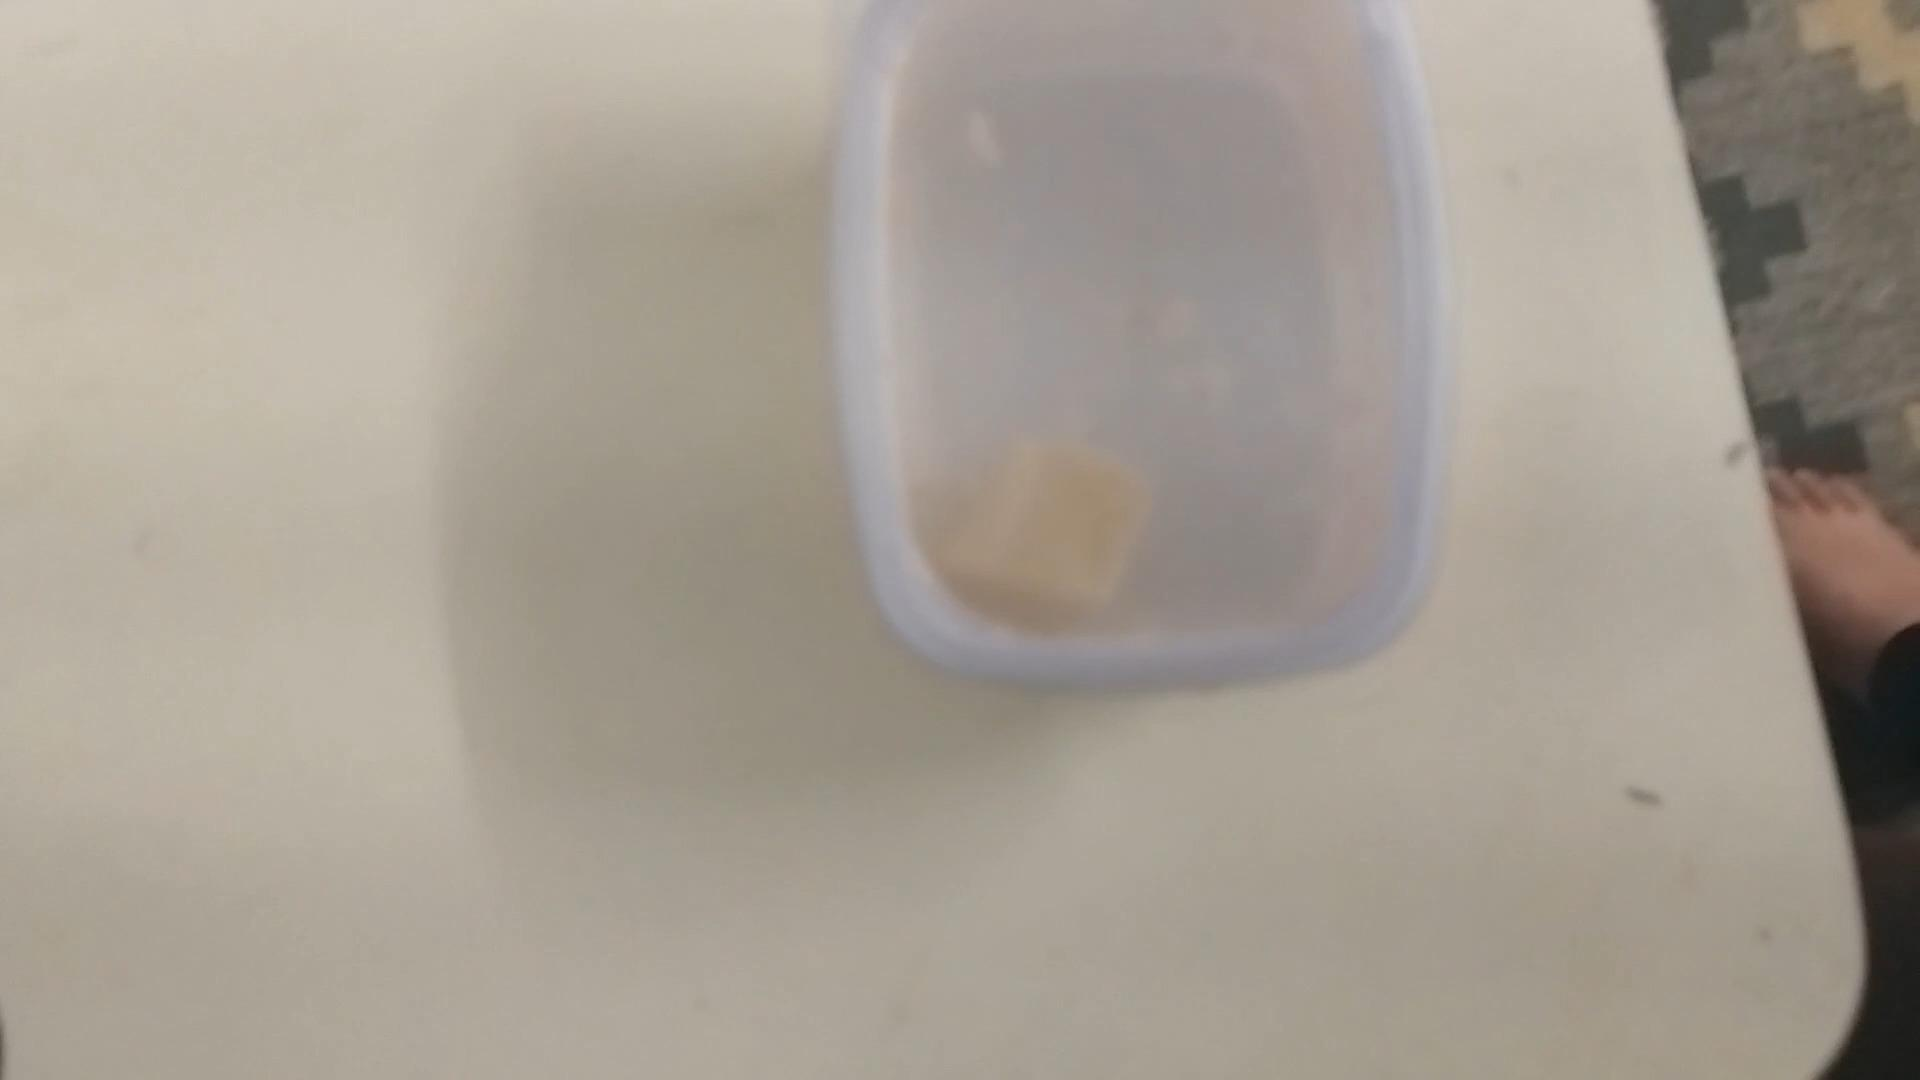butter: (833, 0, 1432, 695)
